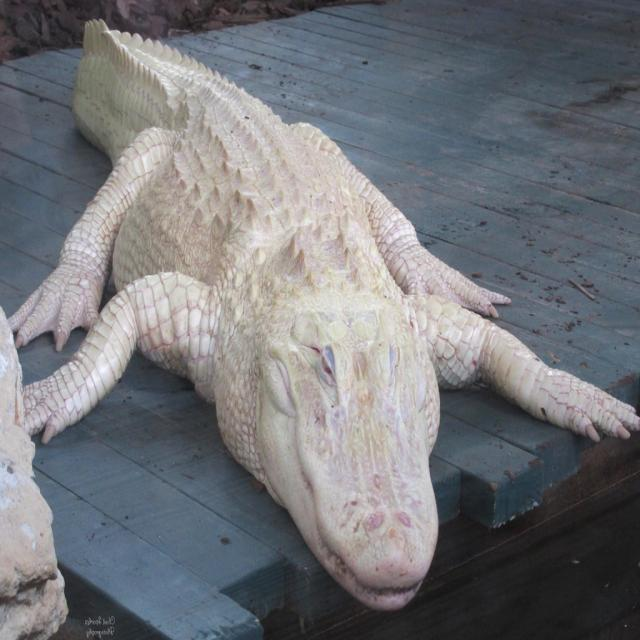crocodile: (9, 20, 639, 614)
